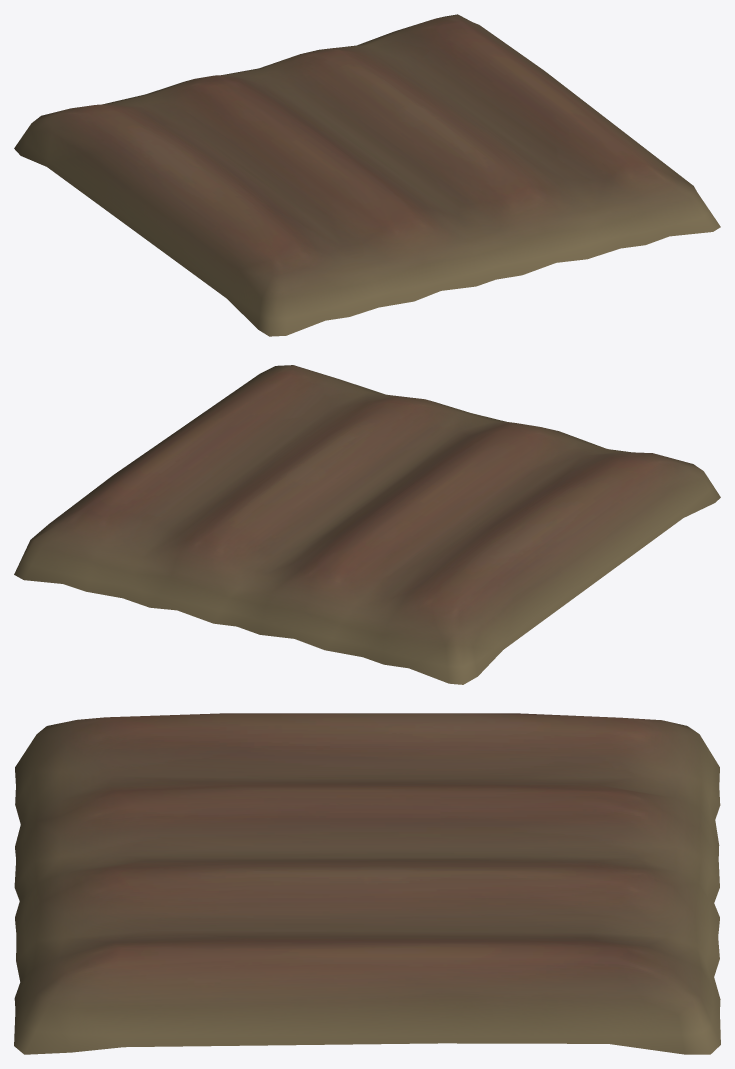
Rendered from SM_Crop_Pumpkin_04.glb.
The picture shows the model from 3 angles, top to bottom: view 1: azimuth 30°, elevation 25°; view 2: azimuth 150°, elevation 25°; view 3: azimuth 270°, elevation 25°; orthographic projection. The views are drawn at different scales.
Visible parts, largest first — view 1: SM_Crop_Pumpkin_04; view 2: SM_Crop_Pumpkin_04; view 3: SM_Crop_Pumpkin_04.
Part boxes in pixels (x1=…): SM_Crop_Pumpkin_04: x1=14, y1=14, x2=720, y2=336; SM_Crop_Pumpkin_04: x1=14, y1=365, x2=720, y2=684; SM_Crop_Pumpkin_04: x1=14, y1=713, x2=720, y2=1054.
Size of the model in its own units: 3.94 by 0.4687 by 3.94.
1 material, 1 textured.
